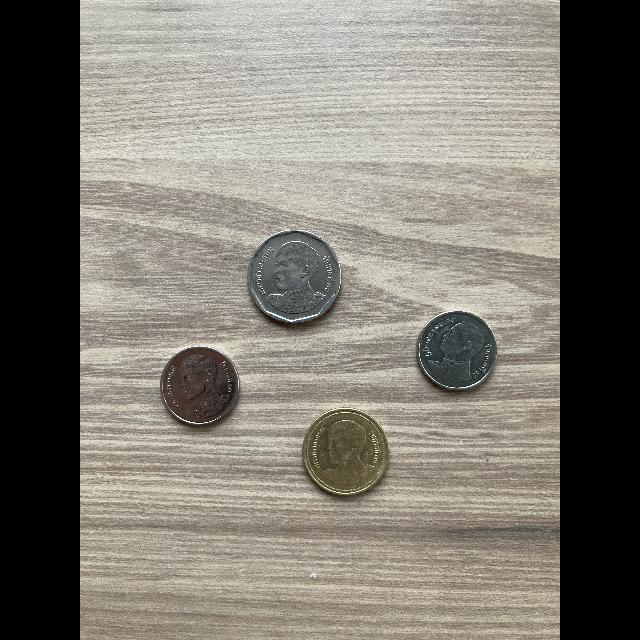1 Bath: (412, 310, 503, 396), (157, 343, 243, 433)
2 Bath: (298, 407, 395, 502)
5 Bath: (244, 227, 347, 330)
